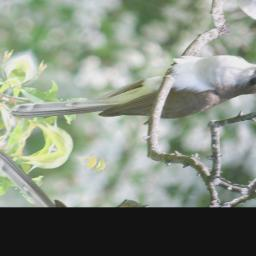Cuckoo: (5, 0, 256, 190)
